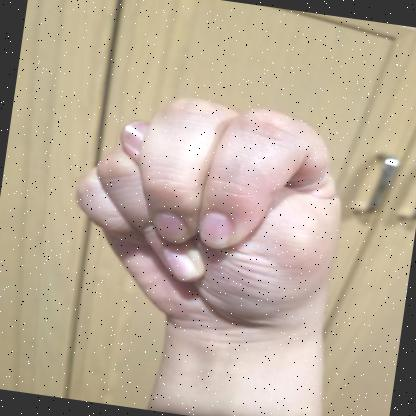N: (75, 97, 342, 343)
